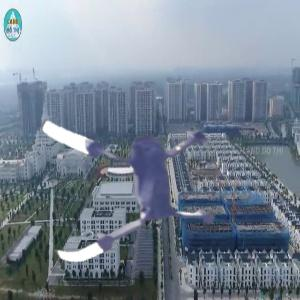drone: (21, 67, 243, 289)
